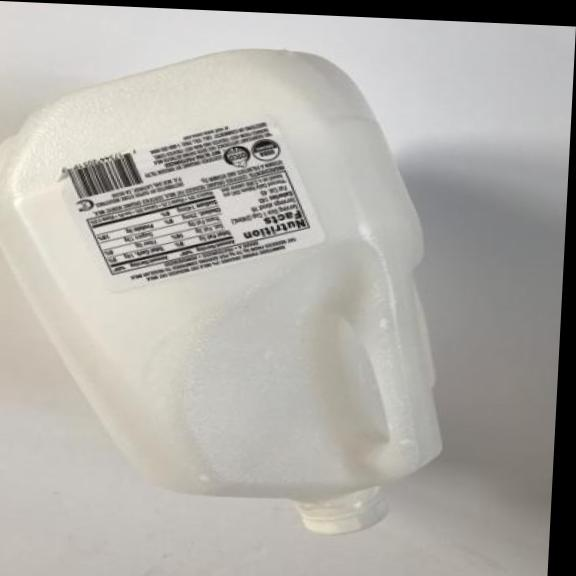Plastik: (0, 28, 476, 545)
